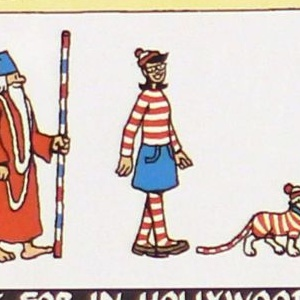Wenda: (109, 40, 192, 260)
Wizard Whitebeard: (0, 41, 76, 263)
